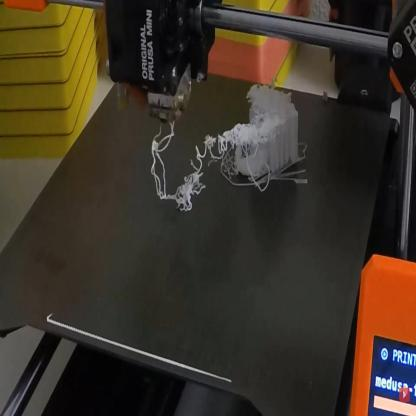fail: (145, 122, 245, 212)
